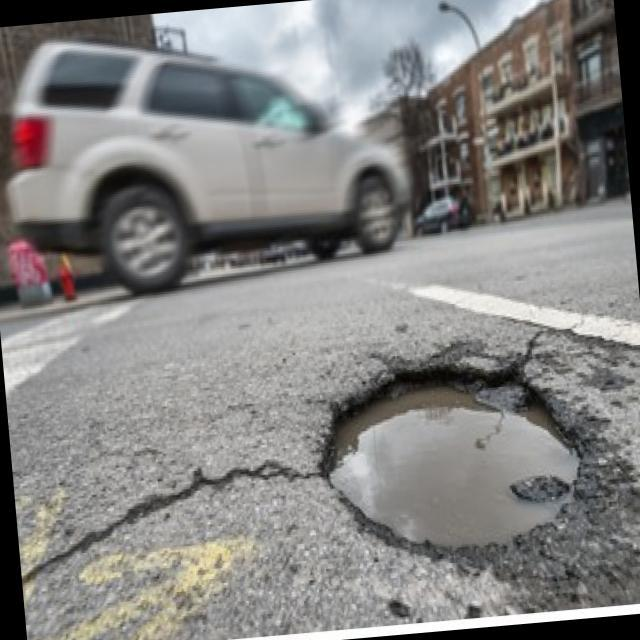Pothole: (306, 337, 596, 564)
